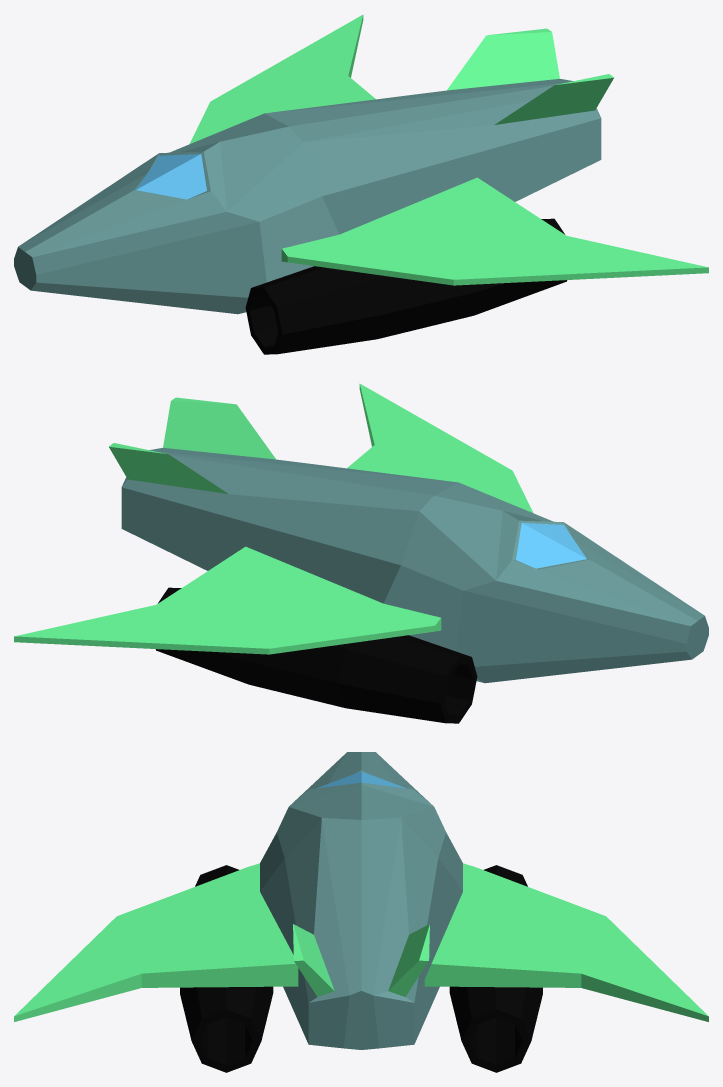
File: explorer4.fbx
The picture shows the model from 3 angles, top to bottom: view 1: azimuth 30°, elevation 25°; view 2: azimuth 150°, elevation 25°; view 3: azimuth 270°, elevation 25°; orthographic projection.
Visible parts, largest first — view 1: Explorer4; view 2: Explorer4; view 3: Explorer4.
Part boxes in pixels (left/top/right/bottom): Explorer4: left=14, top=14, right=708, bottom=354; Explorer4: left=14, top=383, right=708, bottom=723; Explorer4: left=14, top=752, right=708, bottom=1072.
Bounding box in the file's own units: 520 × 156 × 558.
